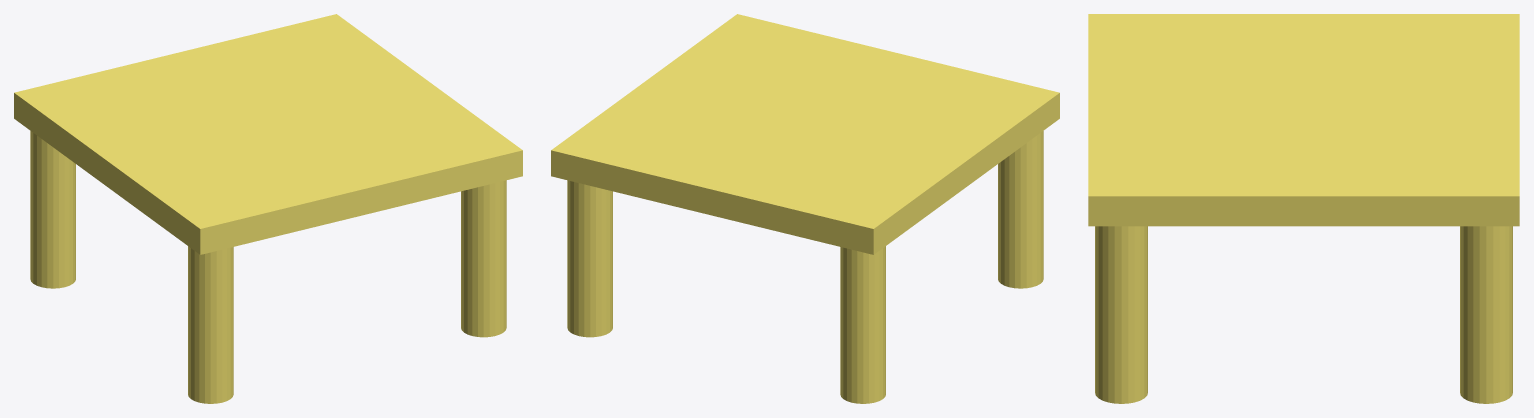
File: table.glb
The picture shows the model from 3 angles, left to right: view 1: azimuth 30°, elevation 25°; view 2: azimuth 150°, elevation 25°; view 3: azimuth 270°, elevation 25°; orthographic projection. The views are drawn at different scales.
Bounding box in the file's own units: 26 × 14 × 26.
